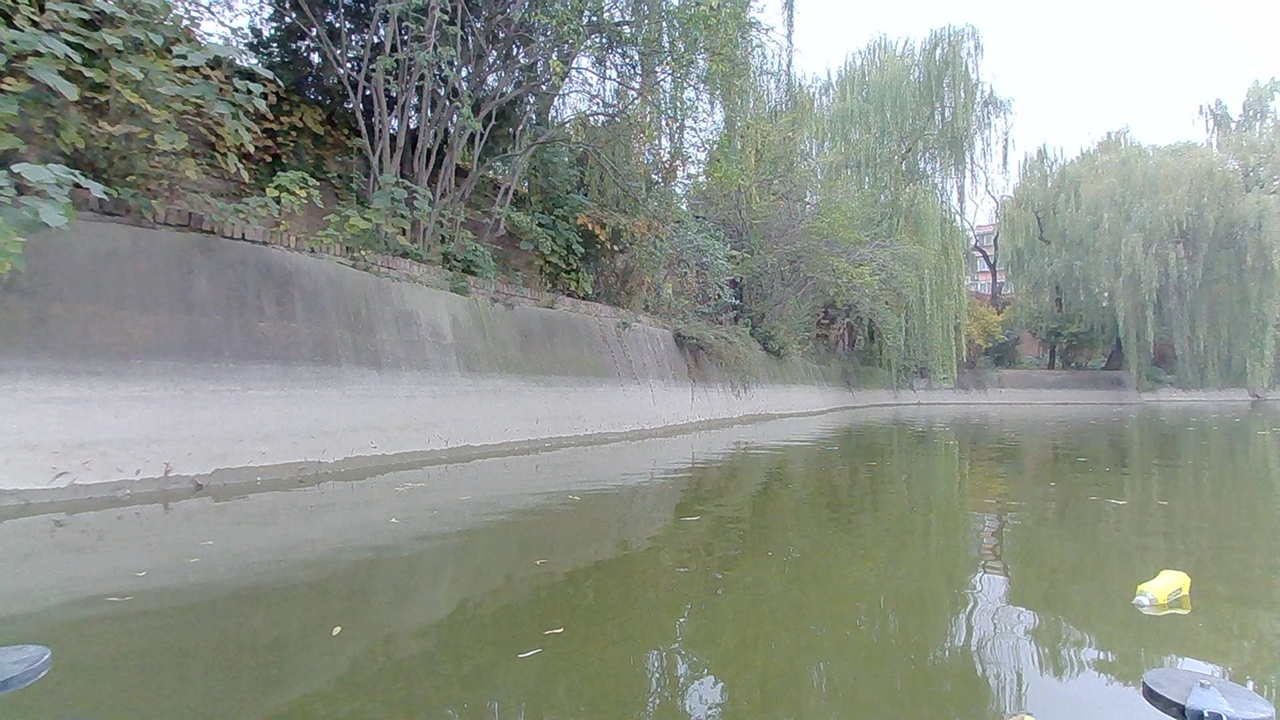bottle: (1128, 566, 1202, 619)
